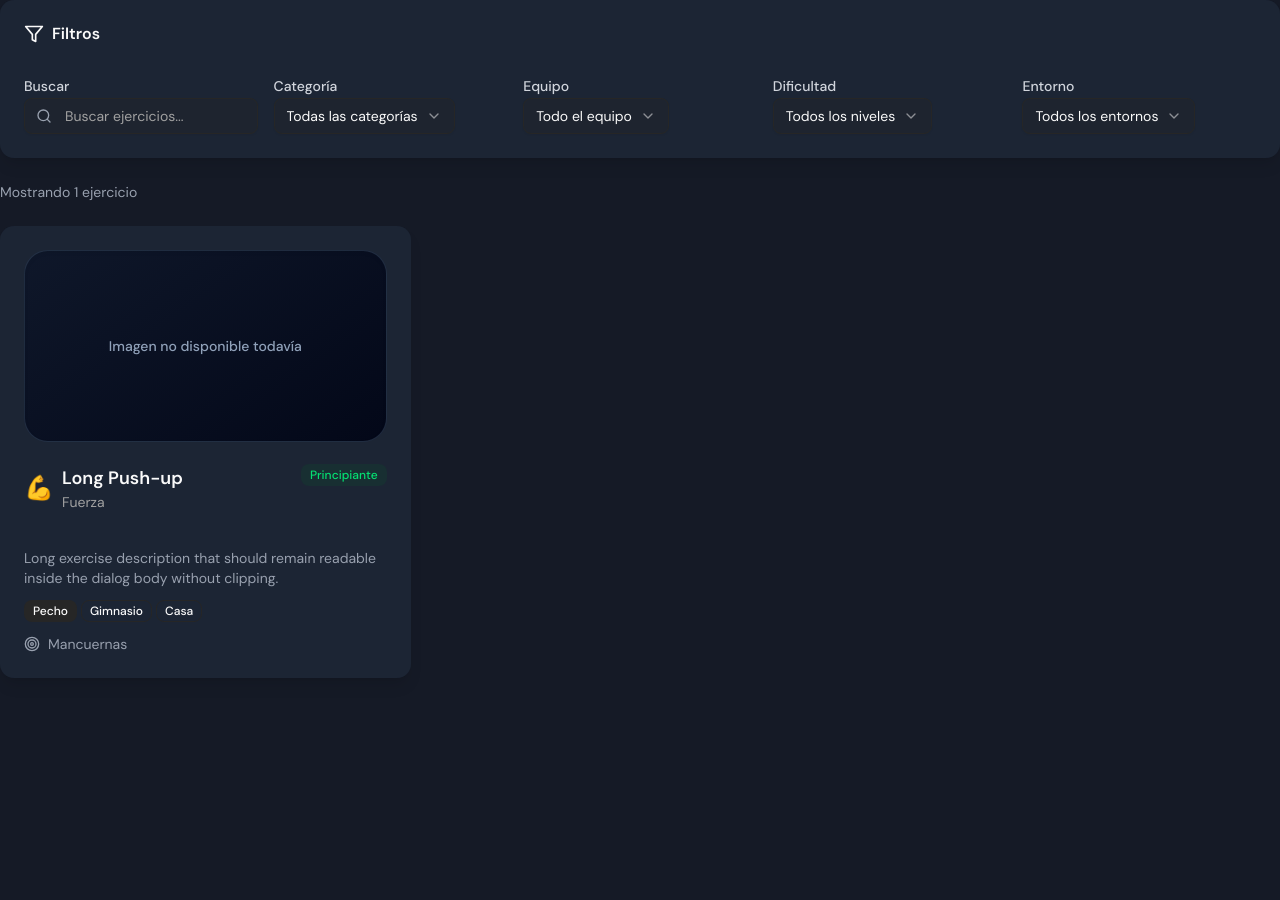
Test: modal scrolling, close behavior, and workout localization › uses a bounded scroll body and visible Close button in exercise detail dialogs
The image size is (1280, 900).
Click the text "Long Push-up".
click(122, 478)  # box [62, 464, 183, 492]
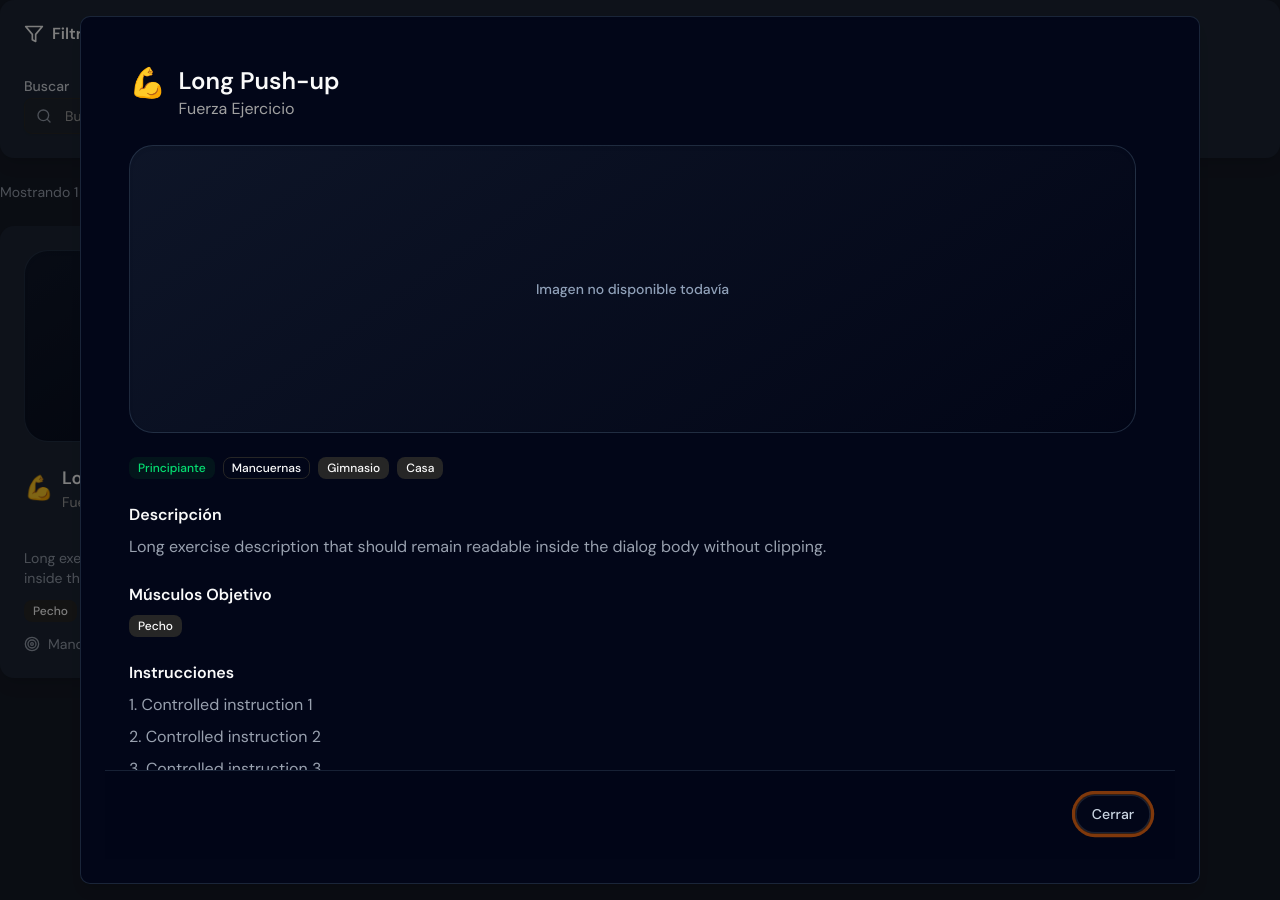
expect the button "Cerrar" is shown: met, box [1075, 794, 1151, 834]
